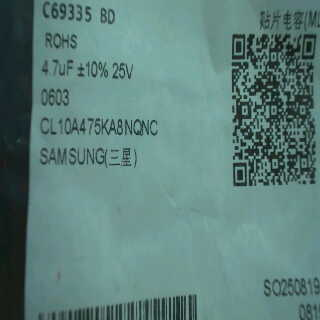4.7uF: (40, 56, 78, 81)
